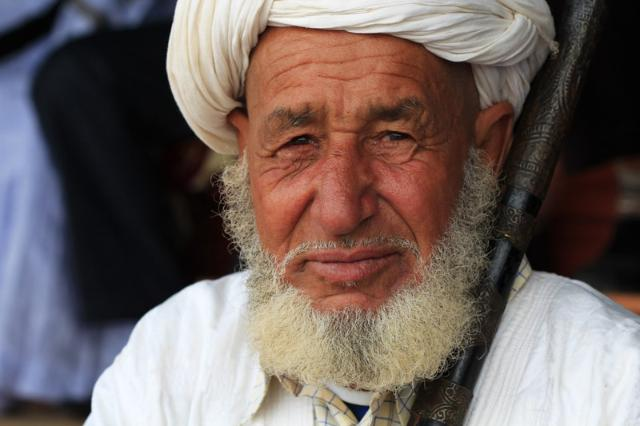chin: (316, 288, 348, 300)
crows_feet: (413, 134, 439, 162), (256, 148, 284, 174)
forehead: (268, 52, 300, 88), (317, 70, 373, 86), (312, 51, 376, 65), (384, 60, 420, 84), (332, 36, 362, 48)
frown_line: (327, 122, 358, 138)
gummy_smile: (377, 192, 418, 228), (288, 196, 312, 239)
